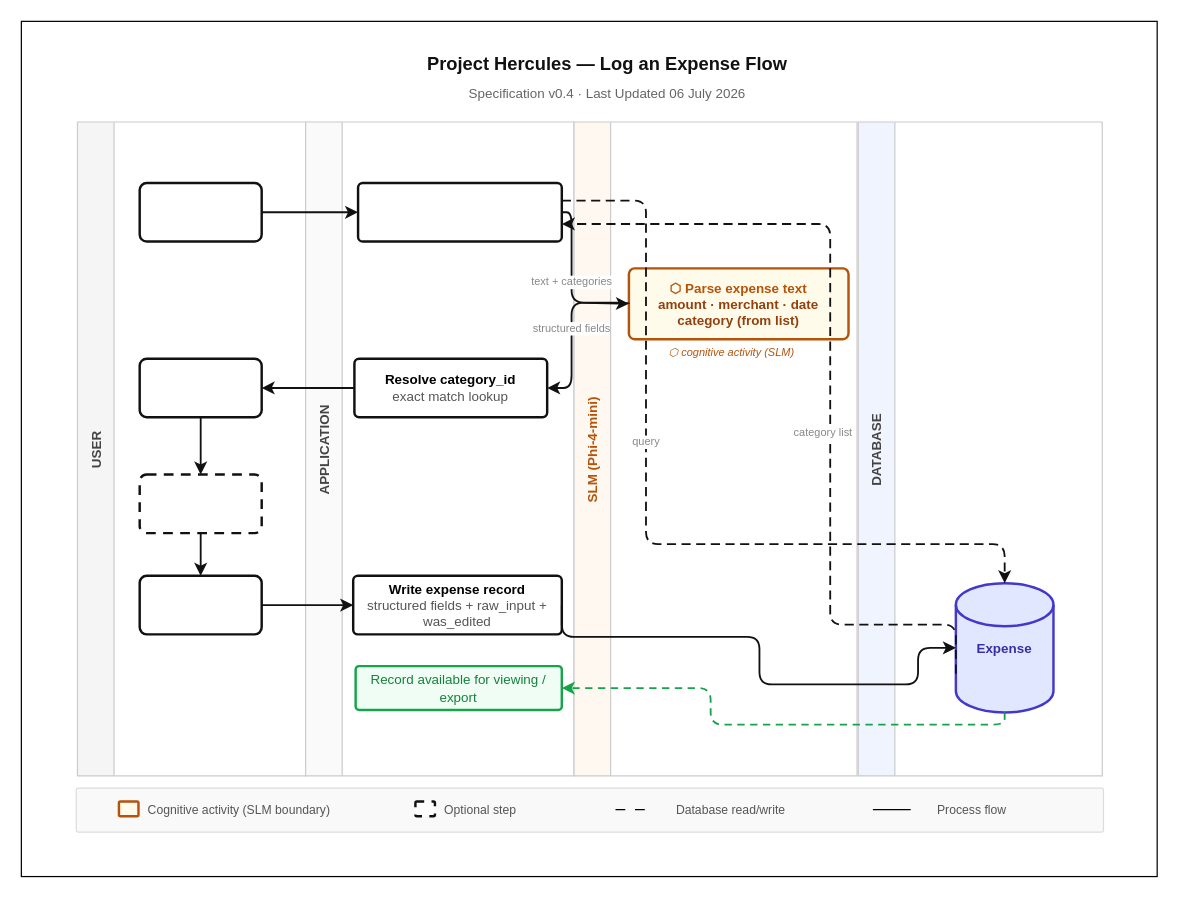
Some shapes in this 1179 by 898 pixel diagram are drawn without their labels. Here are the shapes that lost their labels. From the top down, the centre of each, then its label:
point (200, 211): Enter expense free text input
point (459, 211): Fetch active categories for this user profile
point (200, 387): Review fields confirmation screen
point (200, 503): Edit fields optional
point (200, 604): Confirm & save user action
